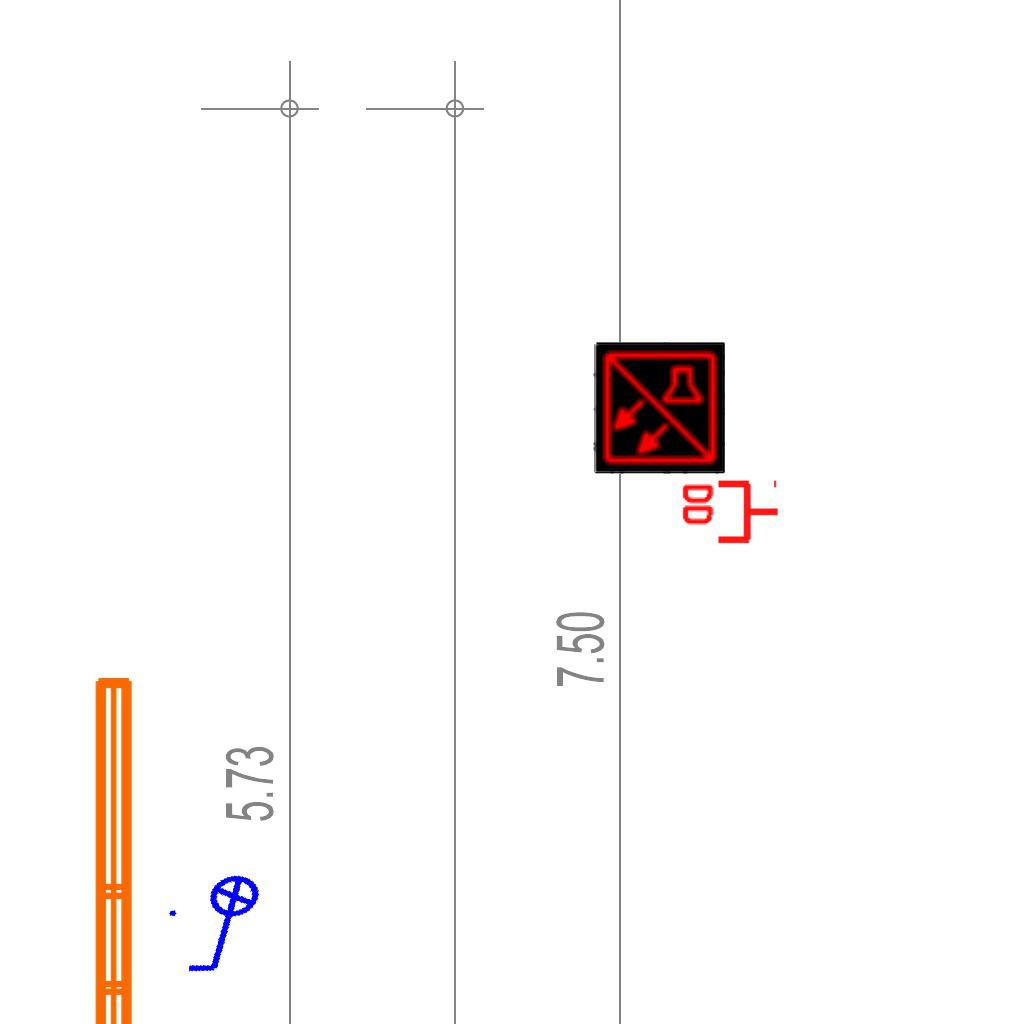Ambulanz_Pendelleuchte_LED: (83, 667, 195, 1024)
Ausschalter_beleuchtet: (157, 864, 293, 988)
Datenanschluss_zweifach: (678, 479, 781, 548)
OKW_Multisensormelder_(Kombination_optischer_Rauch-Kahlenmonoxid_Waerme-Melder): (593, 342, 725, 474)
